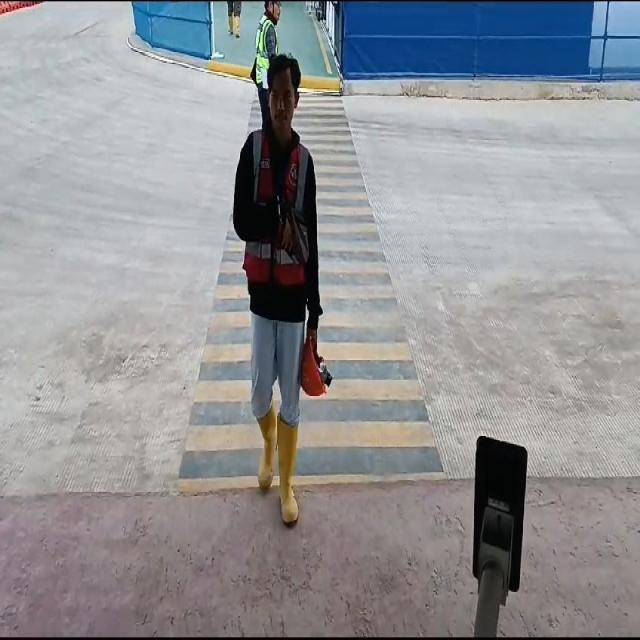helmet: (304, 338, 330, 398)
safety_vest: (256, 132, 307, 291), (276, 416, 301, 528), (255, 404, 276, 492), (254, 15, 270, 86)
